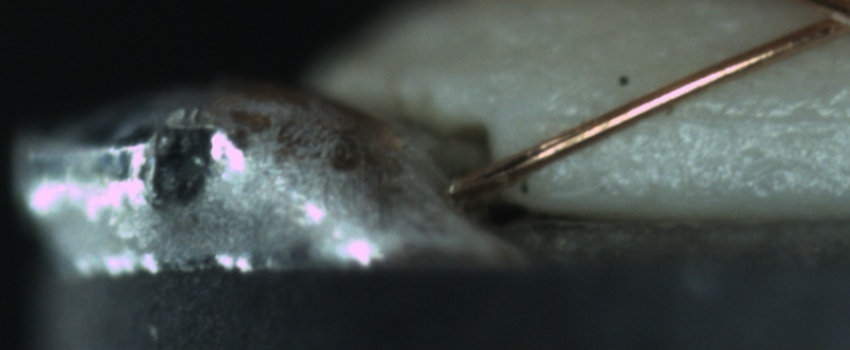CL: (802, 2, 849, 43)
DL: (545, 88, 850, 146)
